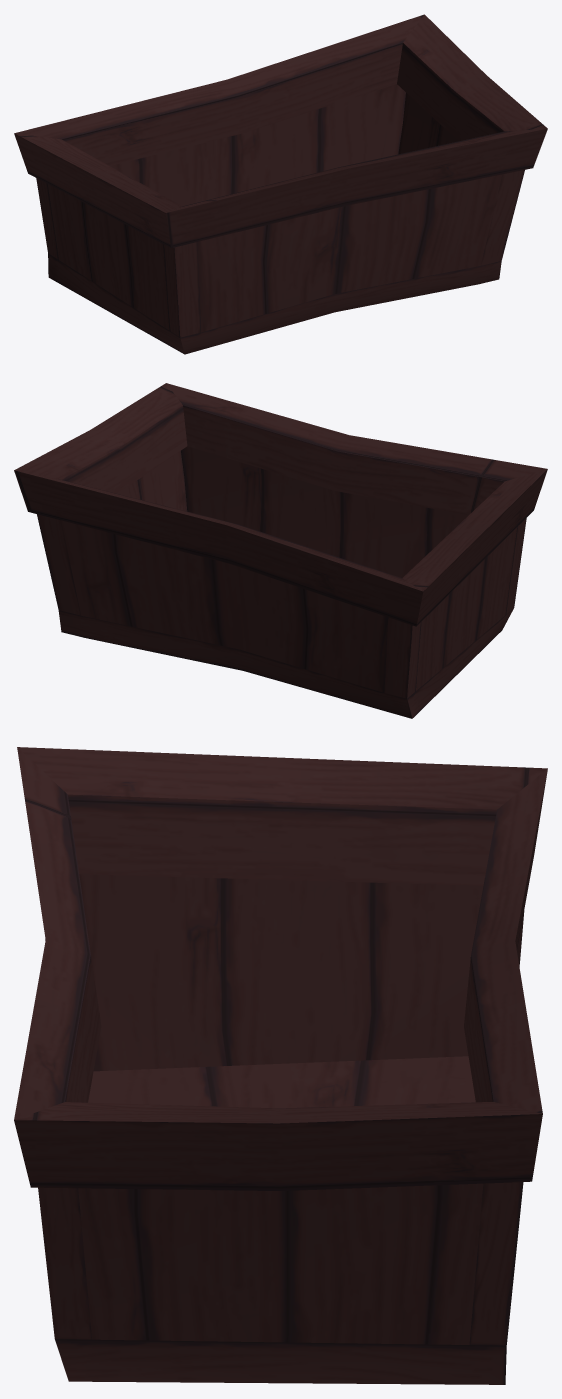
Rendered from PROP_Crate_3.fbx.
3 views of the same model, one above another, from view 1: azimuth 30°, elevation 25°; view 2: azimuth 150°, elevation 25°; view 3: azimuth 270°, elevation 25° (orthographic). The views are drawn at different scales.
Parts seen in each view (by area): view 1: PROP_Crate_3; view 2: PROP_Crate_3; view 3: PROP_Crate_3.
Part boxes in pixels (bbox=[...]): PROP_Crate_3: bbox=[14, 14, 547, 354]; PROP_Crate_3: bbox=[14, 383, 547, 718]; PROP_Crate_3: bbox=[14, 747, 547, 1384].
Size of the model in its own units: 208 by 79.2 by 122.
1 material, 1 textured.
